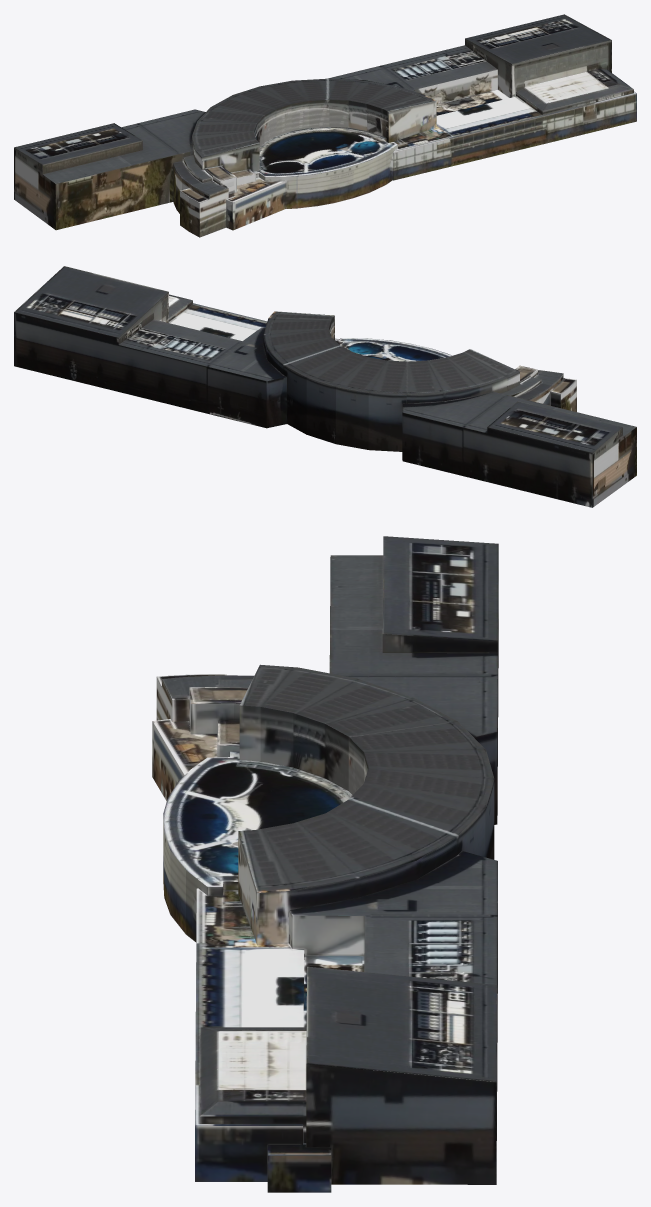
Rendered from kyoto-aquarium.glb.
The picture shows the model from 3 angles, top to bottom: view 1: azimuth 30°, elevation 25°; view 2: azimuth 150°, elevation 25°; view 3: azimuth 270°, elevation 25°; orthographic projection. The views are drawn at different scales.
Size of the model in its own units: 168 by 17.34 by 44.99.
2 materials, 1 textured.
